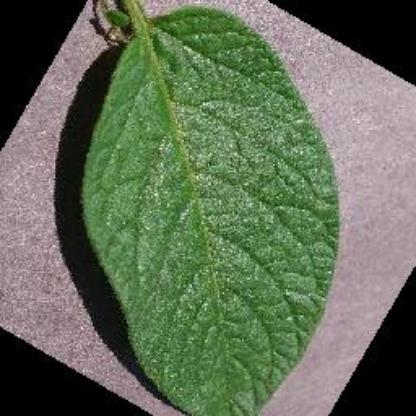Healthy-plant: (75, 4, 342, 412)
